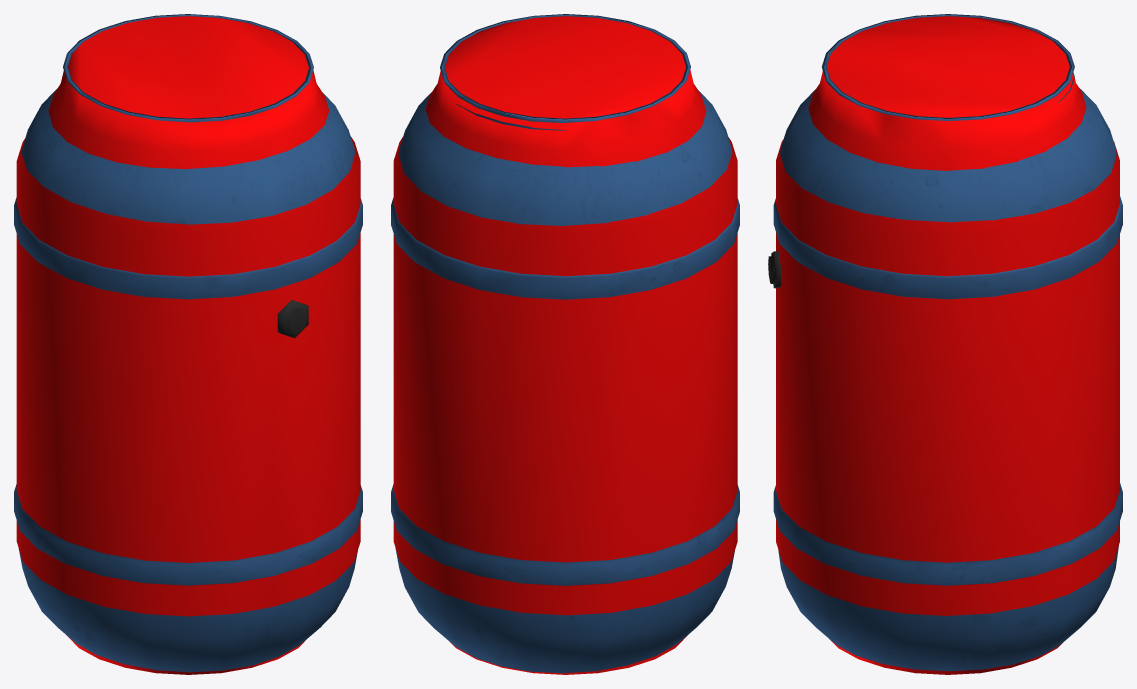
Rendered from regentonnen_0001_offen.fbx.
3 renders of one model, left to right at view 1: azimuth 30°, elevation 25°; view 2: azimuth 150°, elevation 25°; view 3: azimuth 270°, elevation 25°, orthographic.
Parts seen in each view (by area): view 1: Mesh_ncl1_1, Mesh; view 2: Mesh_ncl1_1, Mesh; view 3: Mesh_ncl1_1, Mesh.
Part boxes in pixels (<box>): Mesh_ncl1_1: <box>16,16,360,674</box>; Mesh: <box>14,14,362,672</box>; Mesh_ncl1_1: <box>393,16,737,674</box>; Mesh: <box>391,14,739,673</box>; Mesh_ncl1_1: <box>776,16,1119,674</box>; Mesh: <box>768,14,1122,671</box>.
Bounding box in the file's own units: 49.34 × 86.5 × 50.14.
